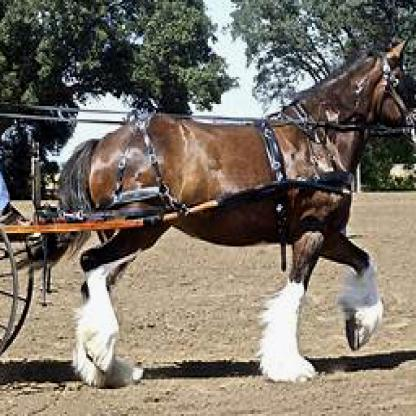horse: (53, 32, 415, 391)
